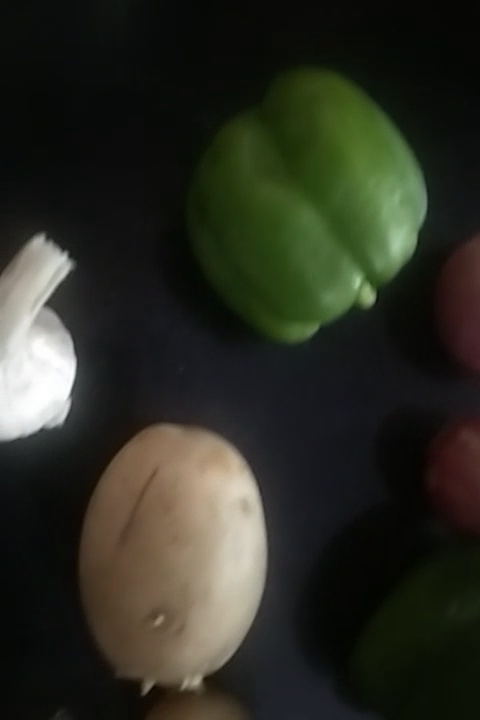capsicum: (188, 87, 414, 345), (343, 548, 480, 719)
garlic: (1, 238, 79, 440)
potato: (80, 431, 263, 683)
tomato: (430, 234, 480, 383), (428, 413, 480, 535)
